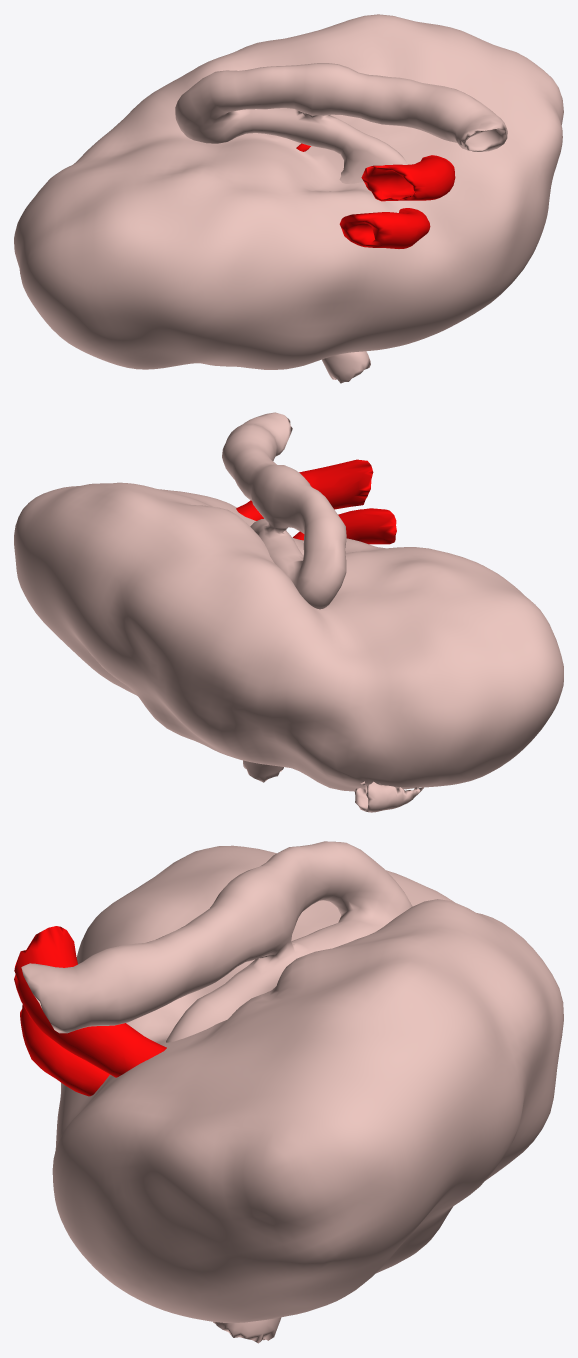
File: nih_f_lymph_node-100.glb
3 views of the same model, one above another, from view 1: azimuth 30°, elevation 25°; view 2: azimuth 150°, elevation 25°; view 3: azimuth 270°, elevation 25° (orthographic). The views are drawn at different scales.
Visible parts, largest first — view 1: Yao_capsule_of_lymph_node, Yao_efferent_lymph_node, Yao_blood_vasculature, Yao_afferent_lymphatic_vessel; view 2: Yao_capsule_of_lymph_node, Yao_efferent_lymph_node, Yao_blood_vasculature, Yao_afferent_lymphatic_vessel; view 3: Yao_capsule_of_lymph_node, Yao_efferent_lymph_node, Yao_blood_vasculature, Yao_afferent_lymphatic_vessel.
Part boxes in pixels (<box>): Yao_capsule_of_lymph_node: <box>14,14,563,369</box>; Yao_efferent_lymph_node: <box>175,63,507,183</box>; Yao_blood_vasculature: <box>296,143,455,248</box>; Yao_afferent_lymphatic_vessel: <box>322,351,370,383</box>; Yao_capsule_of_lymph_node: <box>14,482,563,791</box>; Yao_efferent_lymph_node: <box>222,412,346,609</box>; Yao_blood_vasculature: <box>236,459,396,544</box>; Yao_afferent_lymphatic_vessel: <box>243,760,423,812</box>; Yao_capsule_of_lymph_node: <box>52,845,563,1322</box>; Yao_efferent_lymph_node: <box>21,841,412,1042</box>; Yao_blood_vasculature: <box>14,926,166,1096</box>; Yao_afferent_lymphatic_vessel: <box>213,1317,281,1343</box>.
Bounding box in the file's own units: 0.0196 × 0.0113 × 0.0125.
